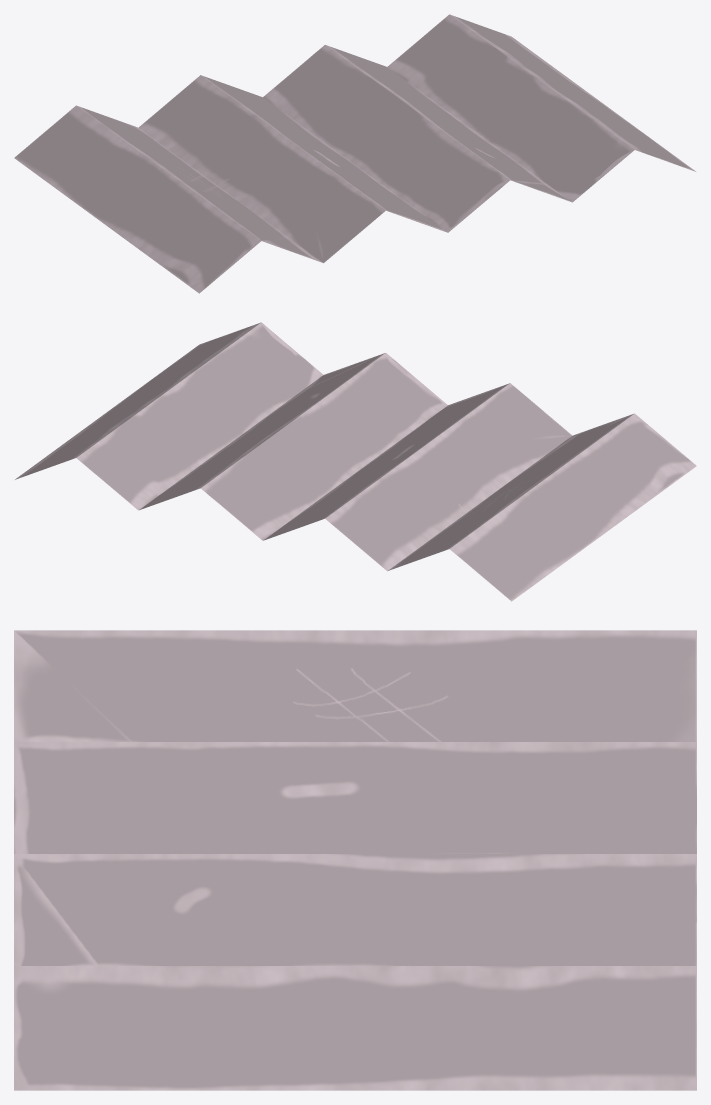
The model's file is panel.glb.
3 views of the same model, one above another, from view 1: azimuth 30°, elevation 25°; view 2: azimuth 150°, elevation 25°; view 3: azimuth 270°, elevation 25° (orthographic). The views are drawn at different scales.
Parts seen in each view (by area): view 1: Panel; view 2: Panel; view 3: Panel.
Part boxes in pixels (x1,y1,x2,y2): Panel: [14, 14, 695, 293]; Panel: [15, 322, 696, 601]; Panel: [14, 630, 696, 1090].
Size of the model in its own units: 3.88 by 0.2788 by 2.5.
Materials: 1 (1 with a texture image).
